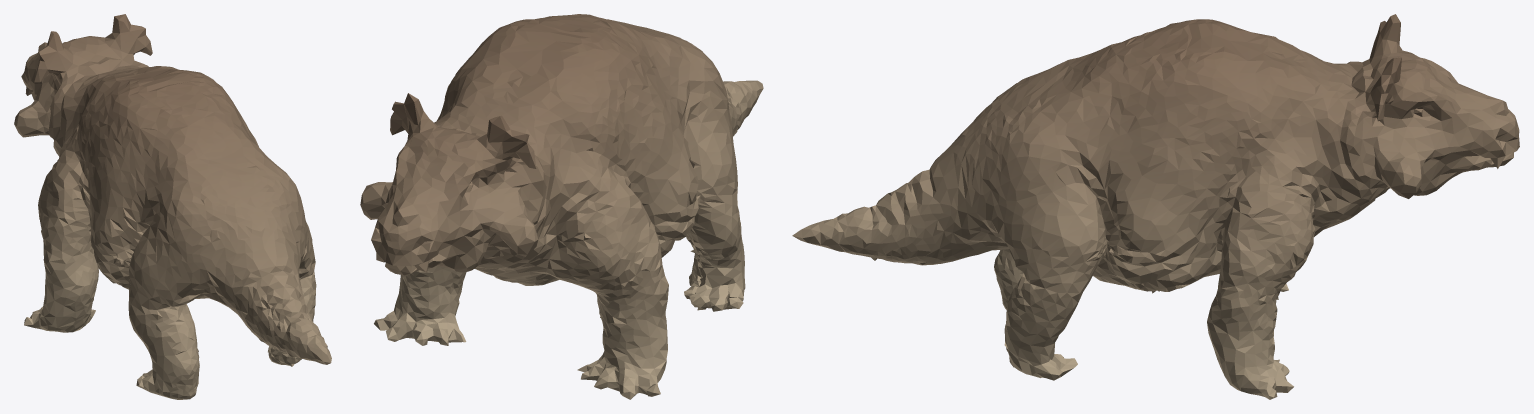
Rendered from estemmenosuchus.glb.
The picture shows the model from 3 angles, left to right: view 1: azimuth 30°, elevation 25°; view 2: azimuth 150°, elevation 25°; view 3: azimuth 270°, elevation 25°; orthographic projection. The views are drawn at different scales.
Parts seen in each view (by area): view 1: world; view 2: world; view 3: world.
Part boxes in pixels (x1,y1,x2,y2): world: (14,14,331,399); world: (360,14,763,399); world: (792,14,1519,399).
Size of the model in its own units: 5.35 by 5.62 by 12.
